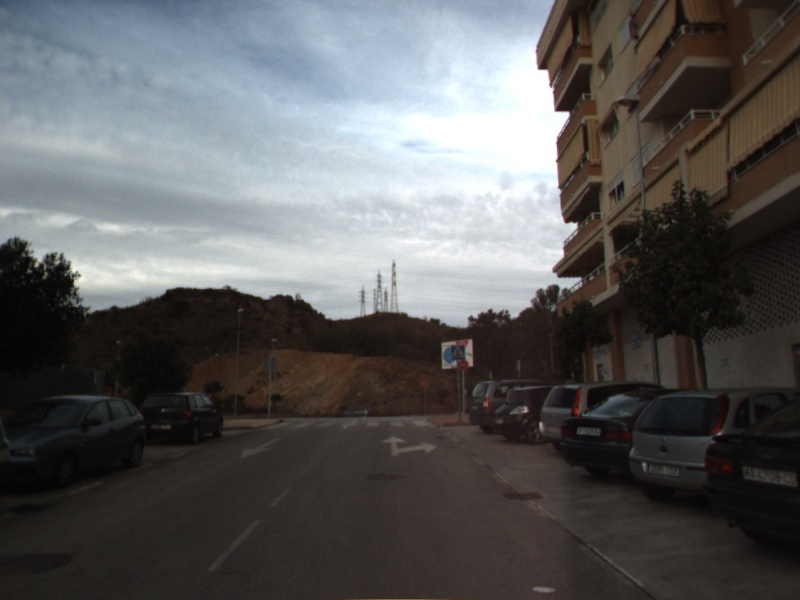STRAIGHT_RIGHT: (377, 434, 439, 458)
